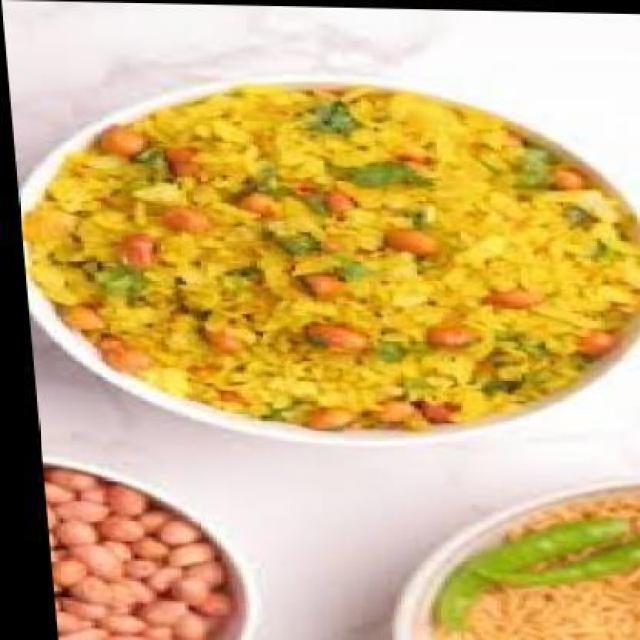poha: (4, 76, 640, 435)
